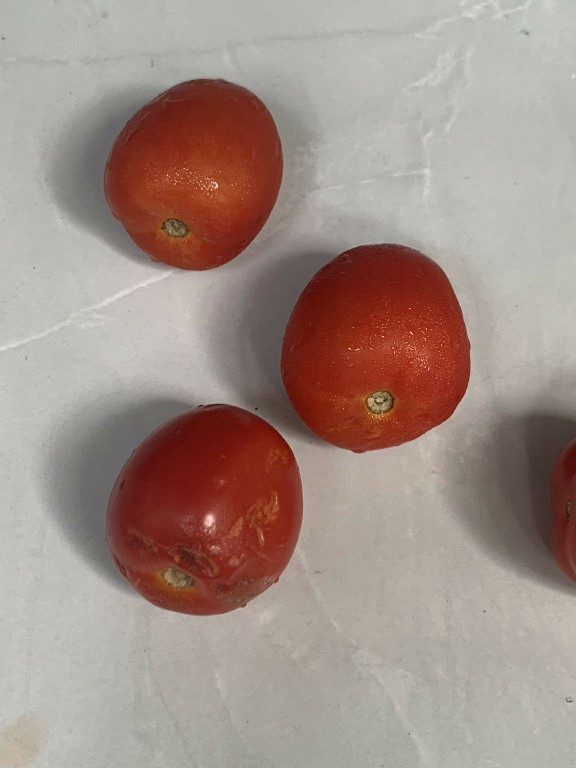NG: (108, 396, 305, 623)
OK: (275, 234, 473, 458), (107, 71, 282, 282)
